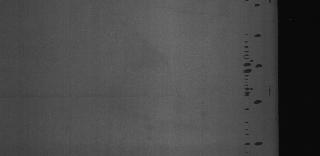oil spot: (243, 32, 253, 105), (242, 139, 266, 155), (242, 108, 250, 136), (250, 96, 264, 108), (254, 29, 262, 40), (253, 60, 264, 68), (253, 2, 261, 11)
